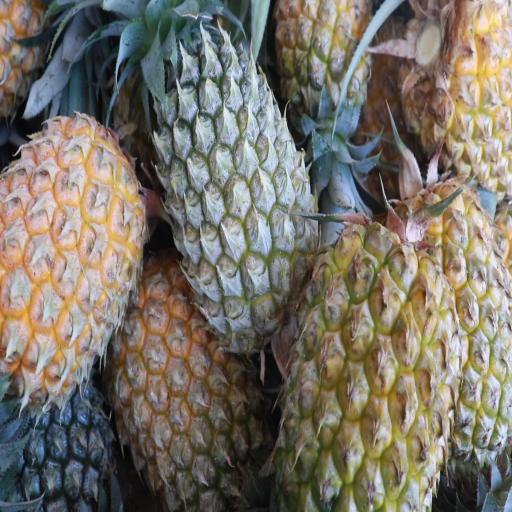------------------------------: (278, 0, 374, 187)
Pineapple - v8 v1: (286, 234, 456, 507), (0, 118, 149, 380), (112, 265, 266, 507), (388, 194, 510, 446), (396, 0, 511, 189)
